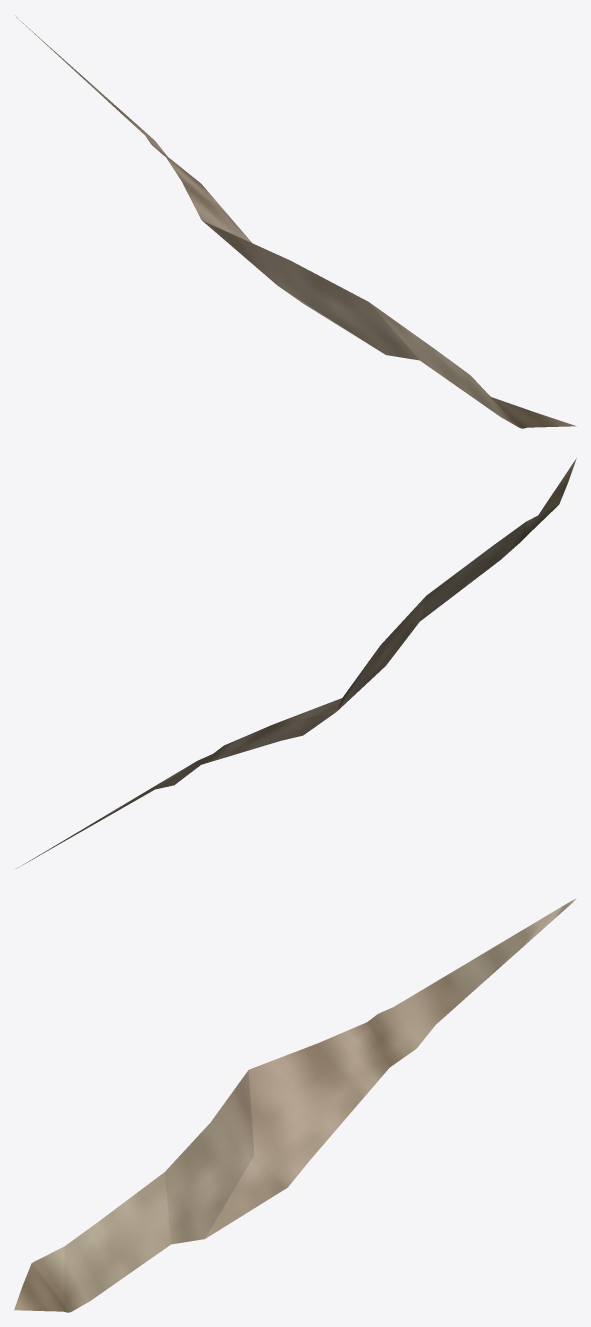
The picture shows the model from 3 angles, top to bottom: view 1: azimuth 30°, elevation 25°; view 2: azimuth 150°, elevation 25°; view 3: azimuth 330°, elevation 25°; orthographic projection.
Size of the model in its own units: 0.0637 by 0.0672 by 0.8823.
1 material, 1 textured.
